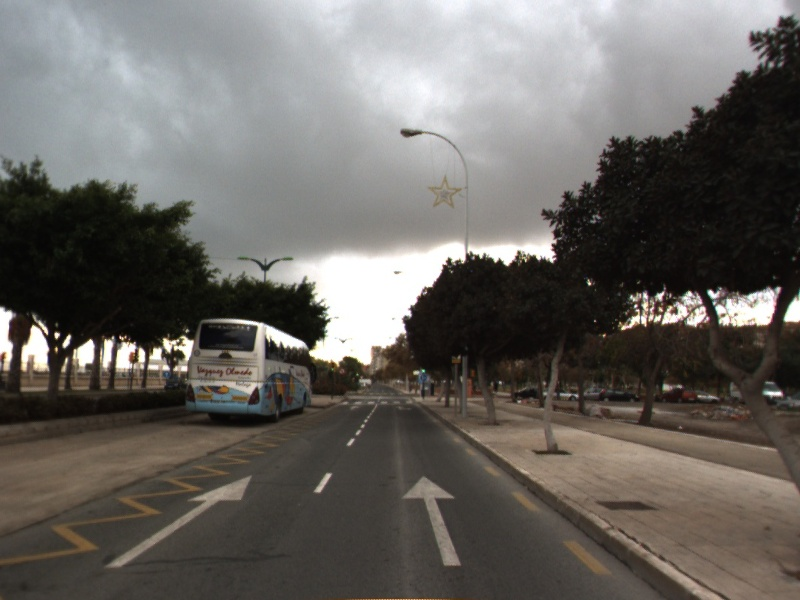STRAIGHT: (101, 472, 256, 571), (399, 473, 464, 568)
